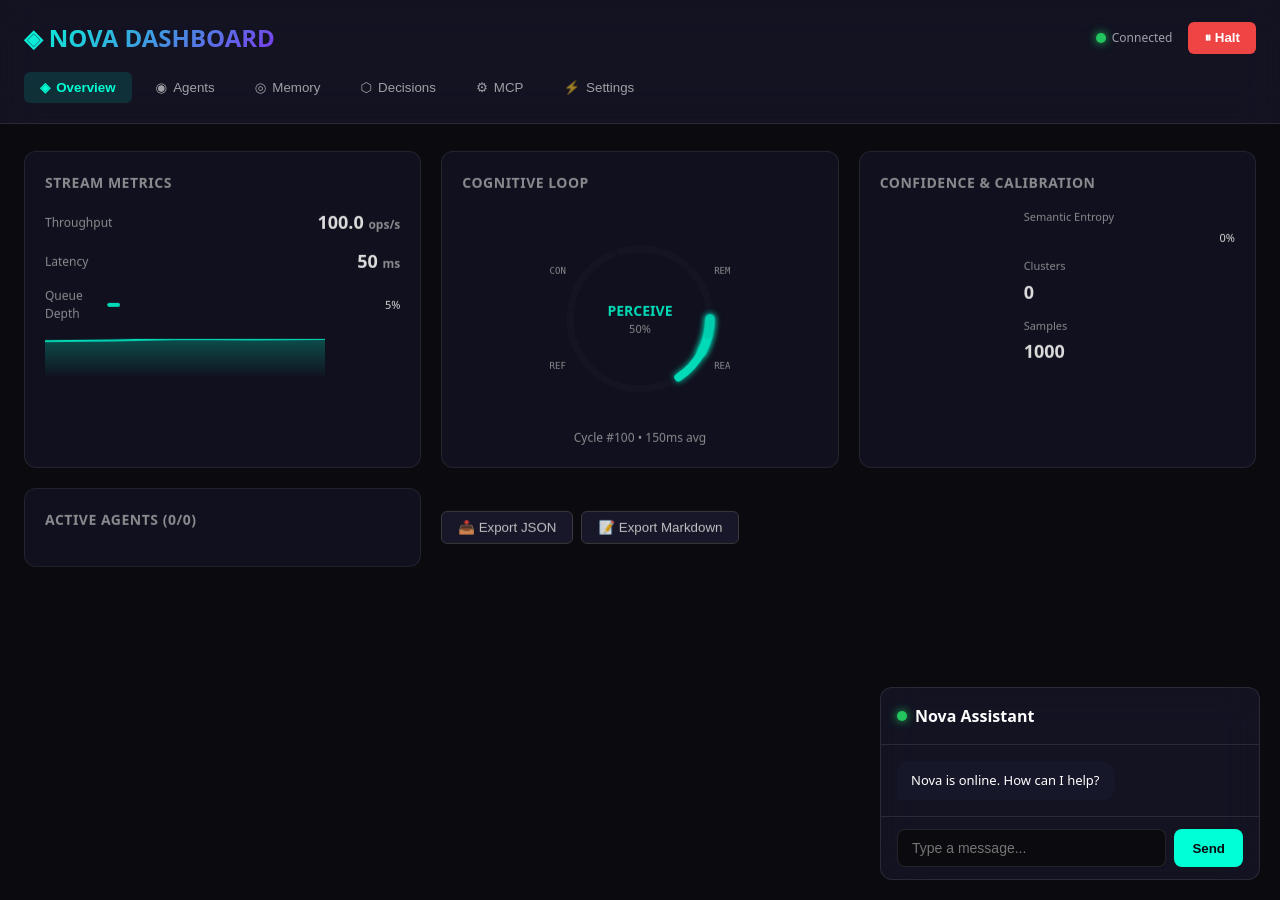
Test case: NovaDashboard Integration › sends chat message
The image size is (1280, 900).
Type "Hello Nova" into the field named "message input" at coordinates (1032, 848), box [897,829,1166,867]
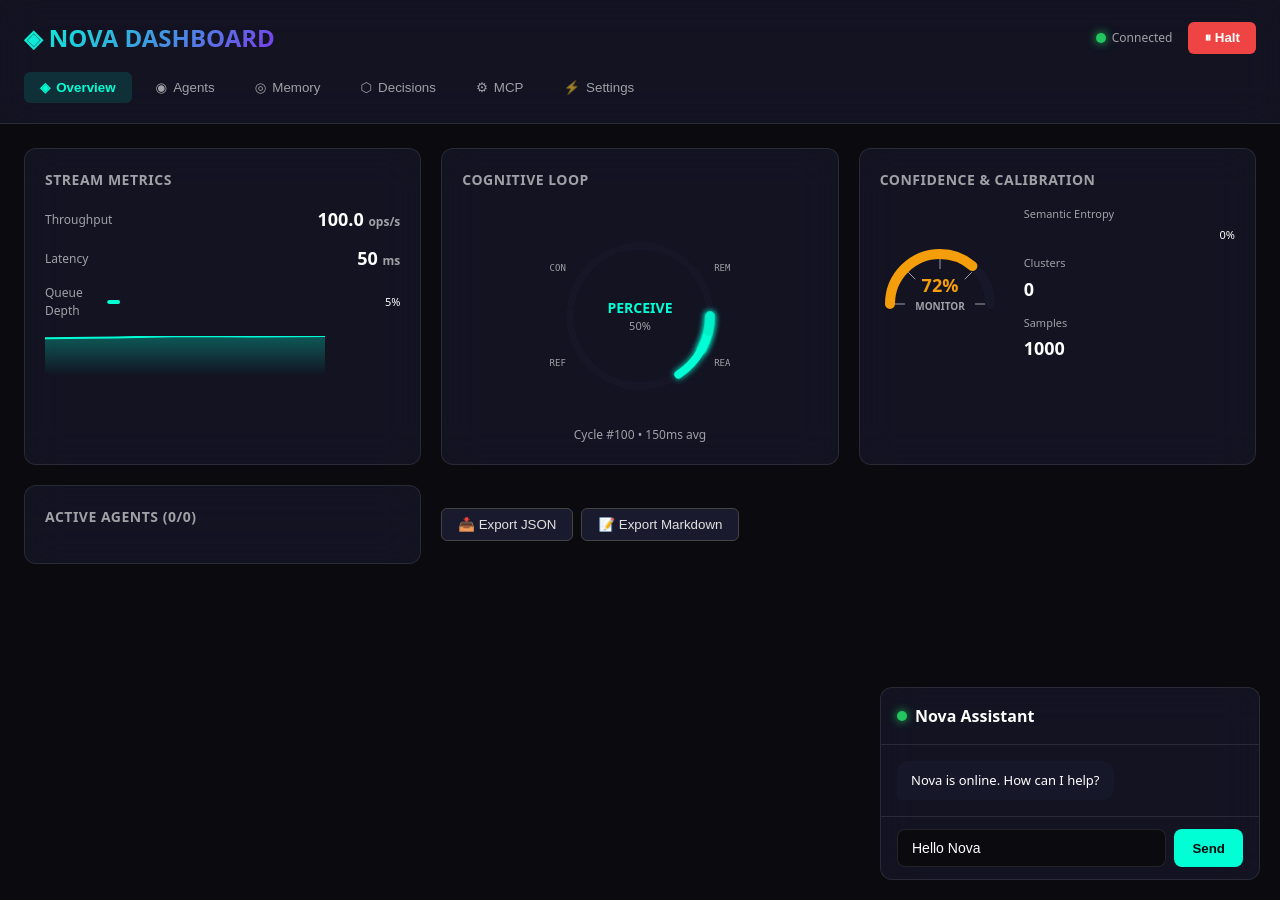
Click the button with aria-label "send message" at coordinates (1209, 848), box [1174,829,1243,867]
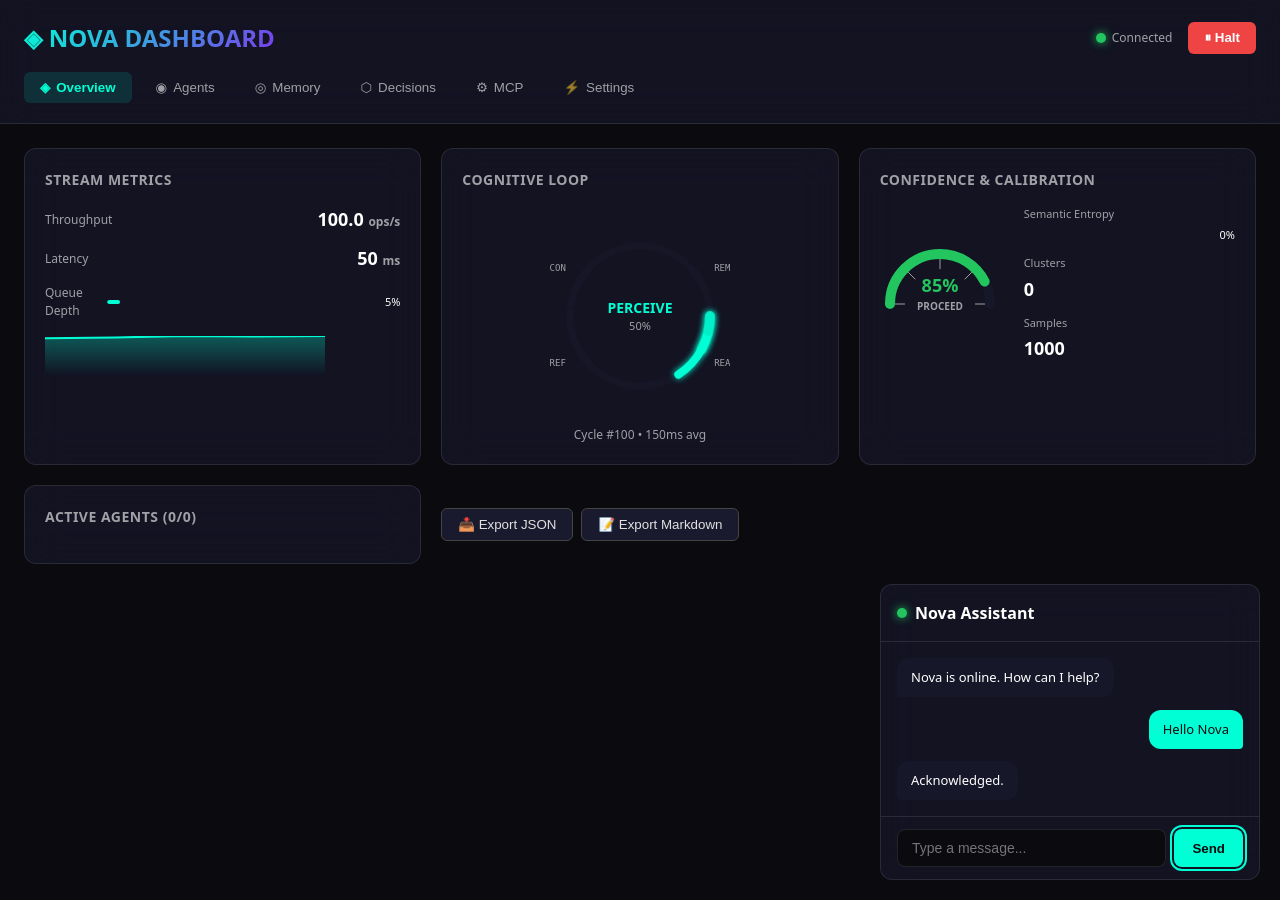
Result: the text "Hello Nova" is shown at [1149,709,1243,748]
